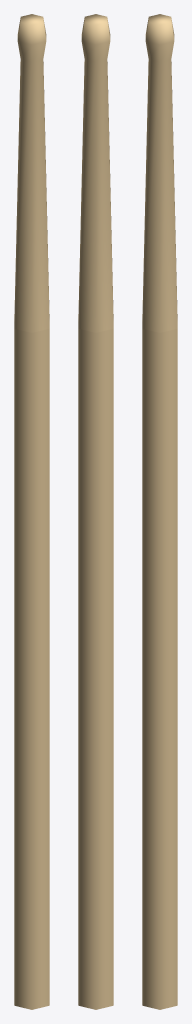
The model's file is Stick.FBX.
The picture shows the model from 3 angles, left to right: view 1: azimuth 90°, elevation 25°; view 2: azimuth 150°, elevation 25°; view 3: azimuth 270°, elevation 25°; orthographic projection.
Parts seen in each view (by area): view 1: Cylinder001; view 2: Cylinder001; view 3: Cylinder001.
Part boxes in pixels (left/top/right/bottom): Cylinder001: left=14, top=14, right=49, bottom=1009; Cylinder001: left=78, top=14, right=113, bottom=1009; Cylinder001: left=142, top=14, right=177, bottom=1009.
Bounding box in the file's own units: 4 × 106 × 3.46.
